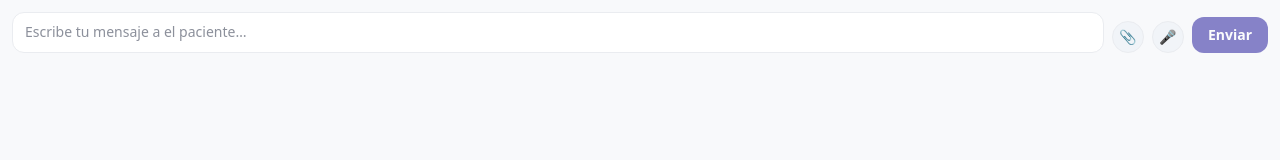
Test: ComposerArea › send button becomes enabled when user types text (direct mode)
Type "Hola" into the text box at (558,32), box x1=12 y1=12 x2=1104 y2=53
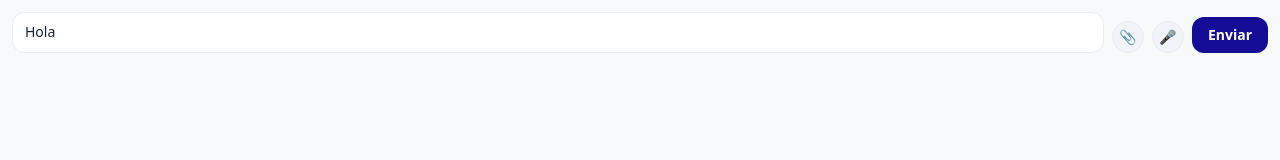
Check: the button "Enviar" is enabled, box x1=1192 y1=17 x2=1268 y2=53
